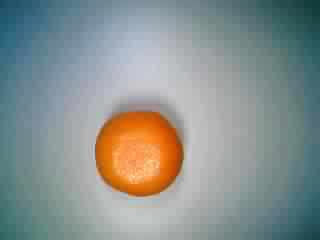orange: (90, 102, 191, 197)
